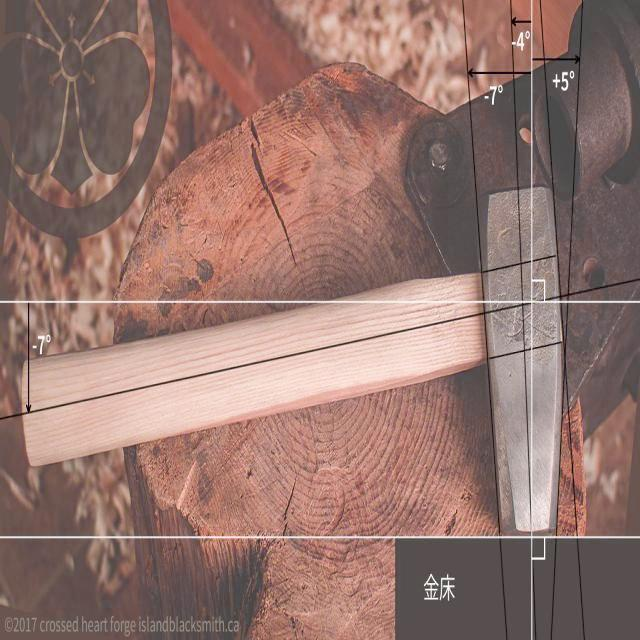hammer: (16, 171, 566, 538)
